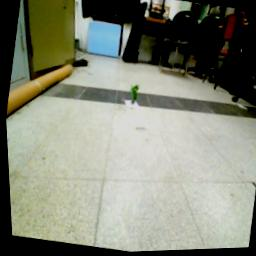herb: (127, 84, 142, 108)
